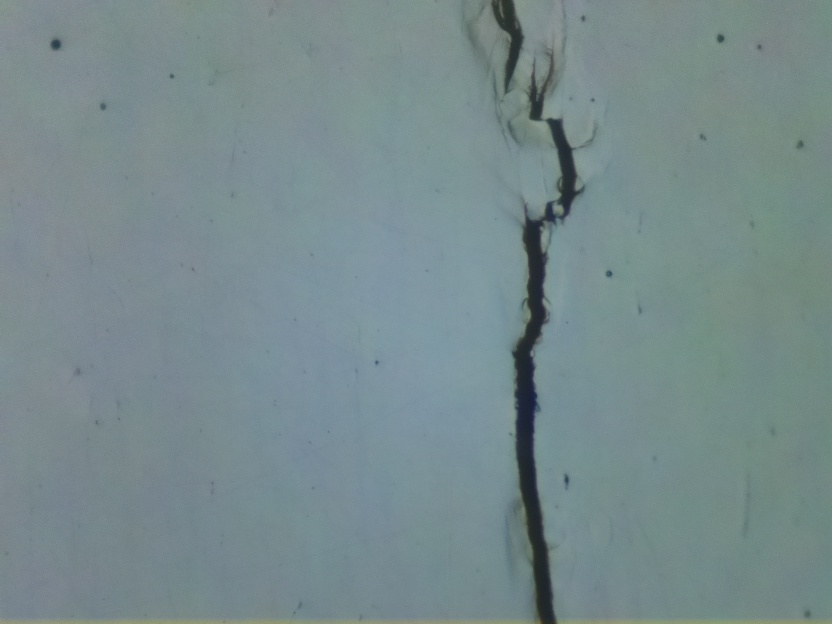crack: (514, 61, 579, 624), (483, 0, 525, 95)
